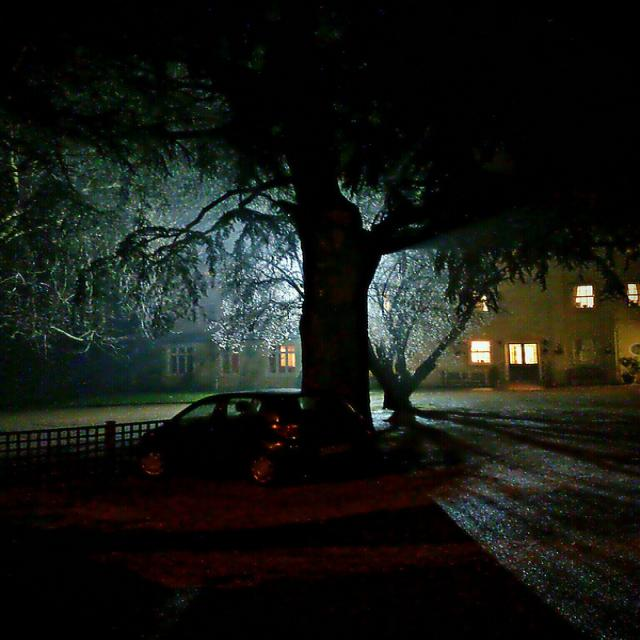Car: (135, 391, 374, 498)
